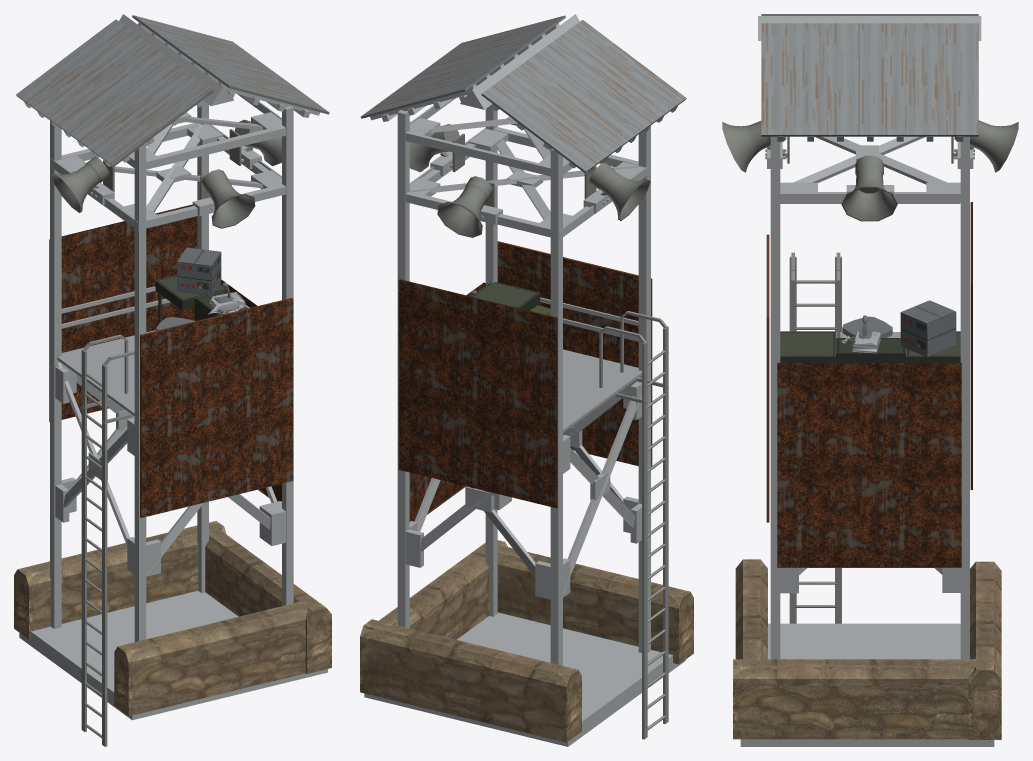
The model's file is loud.glb.
3 renders of one model, left to right at view 1: azimuth 30°, elevation 25°; view 2: azimuth 150°, elevation 25°; view 3: azimuth 270°, elevation 25°, orthographic. The views are drawn at different scales.
Visible parts, largest first — view 1: corrugatedSheets, SM_CommunicationTower_Stage5_01a_Nanite.001, SM_Ind_Speaker_Wall_01a_Nanite.001, SM_SpawnBoard_Lonestar_01h_Nanite.001, SM_Fixed_Ladder_01_Nanite.001, SM_Fixed_Ladder_01_Nanite.002, SM_Fixed_Ladder_01_Nanite.003, SM_Ind_Speaker_Wall_01a_Nanite.003, SM_Pelicase_Desk_01b_Nanite.001, SM_Ind_Speaker_Wall_01a_Nanite.004, SM_Fixed_Ladder_TopHandles_01_Nanite.001; view 2: corrugatedSheets, SM_CommunicationTower_Stage5_01a_Nanite.001, SM_Ind_Speaker_Wall_01a_Nanite.002, SM_Ind_Speaker_Wall_01a_Nanite.003, SM_Fixed_Ladder_01_Nanite.001, SM_Fixed_Ladder_01_Nanite.002, SM_Fixed_Ladder_01_Nanite.003, SM_Ind_Speaker_Wall_01a_Nanite.004, SM_Pelicase_Desk_01b_Nanite.001, SM_Fixed_Ladder_TopHandles_01_Nanite.001; view 3: corrugatedSheets, SM_CommunicationTower_Stage5_01a_Nanite.001, SM_Pelicase_Desk_01b_Nanite.001, SM_SpawnBoard_Lonestar_01h_Nanite.001, SM_Ind_Speaker_Wall_01a_Nanite.004, SM_Ind_Speaker_Wall_01a_Nanite.002, SM_Ind_Speaker_Wall_01a_Nanite.001, SM_Fixed_Ladder_01_Nanite.003, SM_Fixed_Ladder_01_Nanite.001, SM_Fixed_Ladder_TopHandles_01_Nanite.001, SM_Speaker_Chair_Nanite.001.
Boxes of the visible parts, <box> form: corrugatedSheets: <box>14,204,331,716</box>; SM_CommunicationTower_Stage5_01a_Nanite.001: <box>16,14,329,720</box>; SM_Ind_Speaker_Wall_01a_Nanite.001: <box>200,169,255,228</box>; SM_SpawnBoard_Lonestar_01h_Nanite.001: <box>177,247,221,295</box>; SM_Fixed_Ladder_01_Nanite.001: <box>81,606,107,746</box>; SM_Fixed_Ladder_01_Nanite.002: <box>81,482,107,622</box>; SM_Fixed_Ladder_01_Nanite.003: <box>81,358,107,498</box>; SM_Ind_Speaker_Wall_01a_Nanite.003: <box>51,156,114,213</box>; SM_Pelicase_Desk_01b_Nanite.001: <box>154,275,246,324</box>; SM_Ind_Speaker_Wall_01a_Nanite.004: <box>229,119,281,166</box>; SM_Fixed_Ladder_TopHandles_01_Nanite.001: <box>81,334,134,393</box>; corrugatedSheets: <box>360,241,693,742</box>; SM_CommunicationTower_Stage5_01a_Nanite.001: <box>361,14,686,746</box>; SM_Ind_Speaker_Wall_01a_Nanite.002: <box>437,176,494,237</box>; SM_Ind_Speaker_Wall_01a_Nanite.003: <box>584,162,650,220</box>; SM_Fixed_Ladder_01_Nanite.001: <box>642,593,668,739</box>; SM_Fixed_Ladder_01_Nanite.002: <box>642,464,668,610</box>; SM_Fixed_Ladder_01_Nanite.003: <box>642,335,668,481</box>; SM_Ind_Speaker_Wall_01a_Nanite.004: <box>409,121,464,172</box>; SM_Pelicase_Desk_01b_Nanite.001: <box>472,282,540,310</box>; SM_Fixed_Ladder_TopHandles_01_Nanite.001: <box>599,311,668,388</box>; corrugatedSheets: <box>733,202,1001,739</box>; SM_CommunicationTower_Stage5_01a_Nanite.001: <box>740,14,994,746</box>; SM_Pelicase_Desk_01b_Nanite.001: <box>780,331,960,362</box>; SM_SpawnBoard_Lonestar_01h_Nanite.001: <box>900,300,956,357</box>; SM_Ind_Speaker_Wall_01a_Nanite.004: <box>841,155,897,221</box>; SM_Ind_Speaker_Wall_01a_Nanite.002: <box>951,120,1018,172</box>; SM_Ind_Speaker_Wall_01a_Nanite.001: <box>722,121,789,172</box>; SM_Fixed_Ladder_01_Nanite.003: <box>789,267,841,331</box>; SM_Fixed_Ladder_01_Nanite.001: <box>789,568,841,623</box>; SM_Fixed_Ladder_TopHandles_01_Nanite.001: <box>789,252,841,337</box>; SM_Speaker_Chair_Nanite.001: <box>842,316,892,337</box>.
Bounding box in the file's own units: 3.48 × 9.37 × 3.48.
12 materials, 5 textured.
